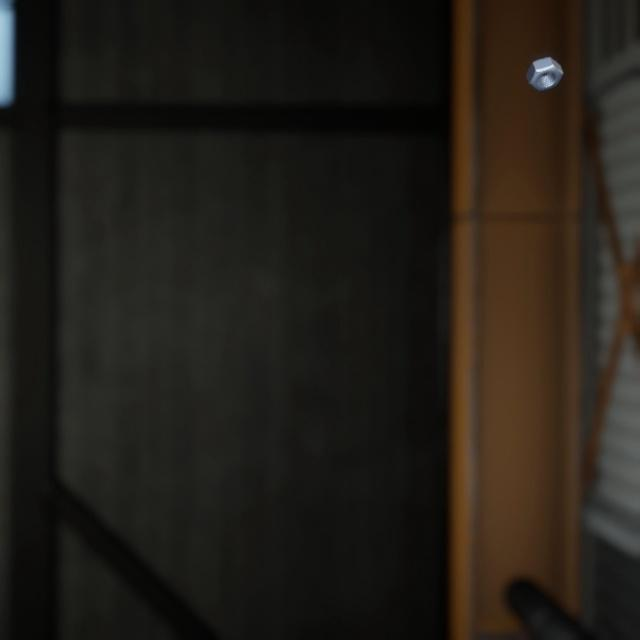nut: (521, 41, 568, 85)
